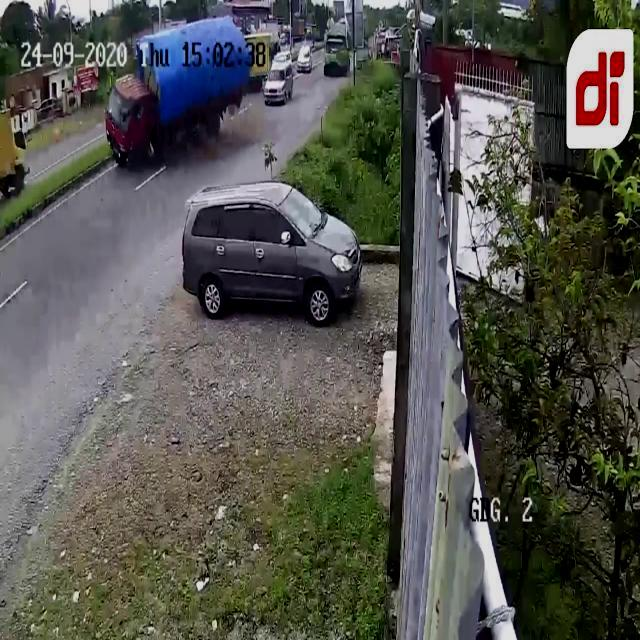accident: (107, 11, 250, 166)
non-accident: (262, 48, 294, 108)
